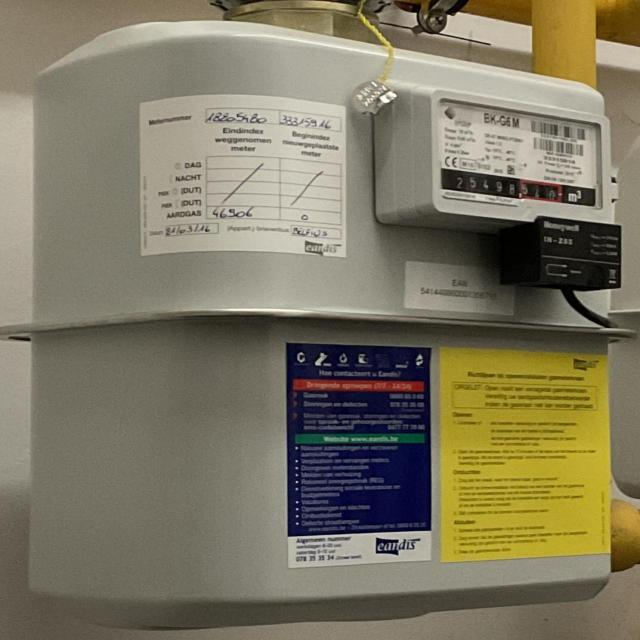gaz_meter: (434, 92, 607, 214)
indication: (441, 168, 564, 203)
